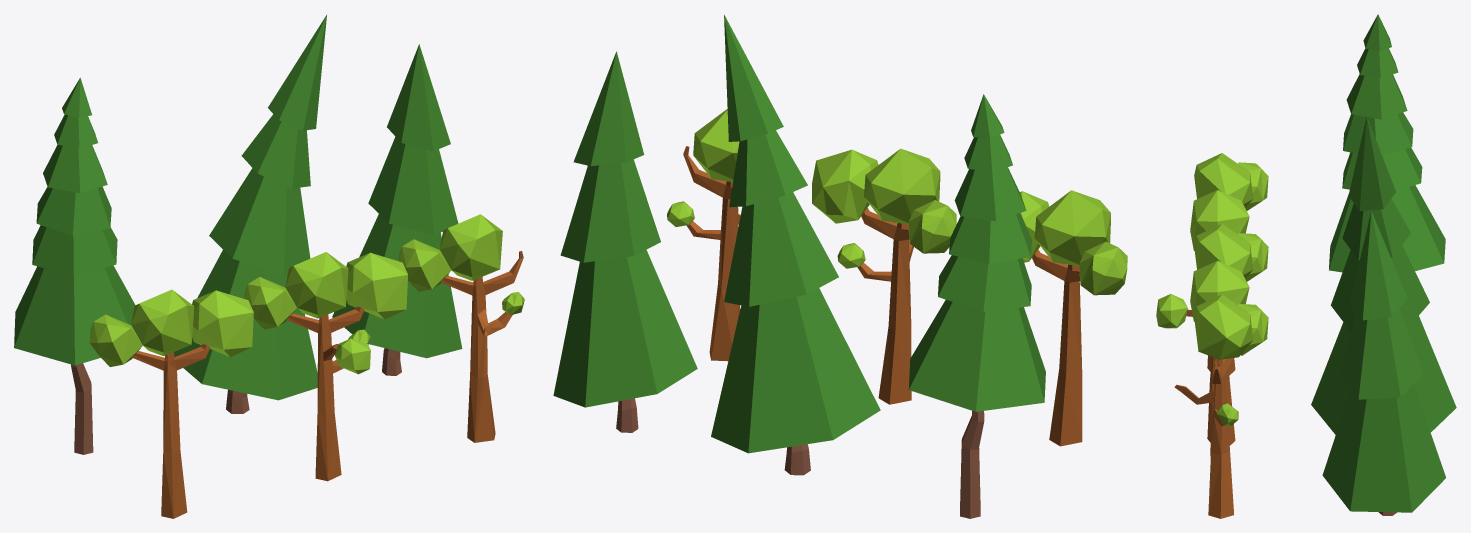
The model's file is fSY0MW1tzEl.glb.
3 renders of one model, left to right at view 1: azimuth 30°, elevation 25°; view 2: azimuth 150°, elevation 25°; view 3: azimuth 270°, elevation 25°, orthographic. The views are drawn at different scales.
Visible parts, largest first — view 1: Pine_Tree_03, Tree_01; view 2: Pine_Tree_03, Tree_01; view 3: Pine_Tree_03, Tree_01.
Part boxes in pixels (<box>): Pine_Tree_03: <box>14,15,462,454</box>; Tree_01: <box>89,214,524,518</box>; Pine_Tree_03: <box>553,14,1045,518</box>; Tree_01: <box>667,109,1127,446</box>; Pine_Tree_03: <box>1311,14,1456,515</box>; Tree_01: <box>1156,153,1268,518</box>.
Bounding box in the file's own units: 1.17 × 1 × 0.7488.
Materials: 2 (2 with a texture image).
